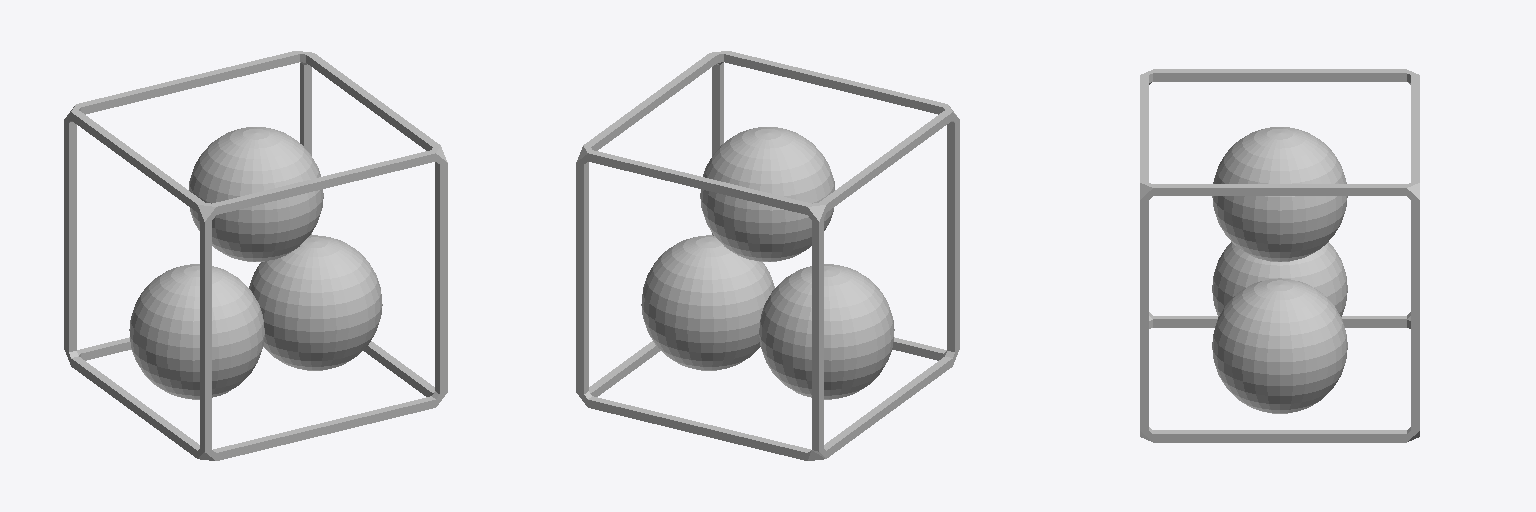
File: stage_2.obj
3 views of the same model, side by side, from view 1: azimuth 30°, elevation 25°; view 2: azimuth 150°, elevation 25°; view 3: azimuth 270°, elevation 25° (orthographic).
Parts seen in each view (by area): view 1: Cube_Cube.002, Sphere.001, Sphere, Sphere.002; view 2: Cube_Cube.002, Sphere.001, Sphere, Sphere.002; view 3: Cube_Cube.002, Sphere.001, Sphere.002, Sphere.
Part boxes in pixels (x1,y1,x2,y2): Cube_Cube.002: (64, 51, 447, 460); Sphere.001: (249, 235, 382, 370); Sphere: (129, 264, 264, 399); Sphere.002: (189, 127, 323, 261); Cube_Cube.002: (576, 51, 959, 460); Sphere.001: (641, 235, 774, 370); Sphere: (759, 264, 894, 399); Sphere.002: (700, 127, 834, 261); Cube_Cube.002: (1140, 69, 1419, 442); Sphere.001: (1212, 278, 1347, 413); Sphere.002: (1212, 127, 1347, 261); Sphere: (1212, 242, 1347, 316).
Bounding box in the file's own units: 1.03 × 1.03 × 1.03.